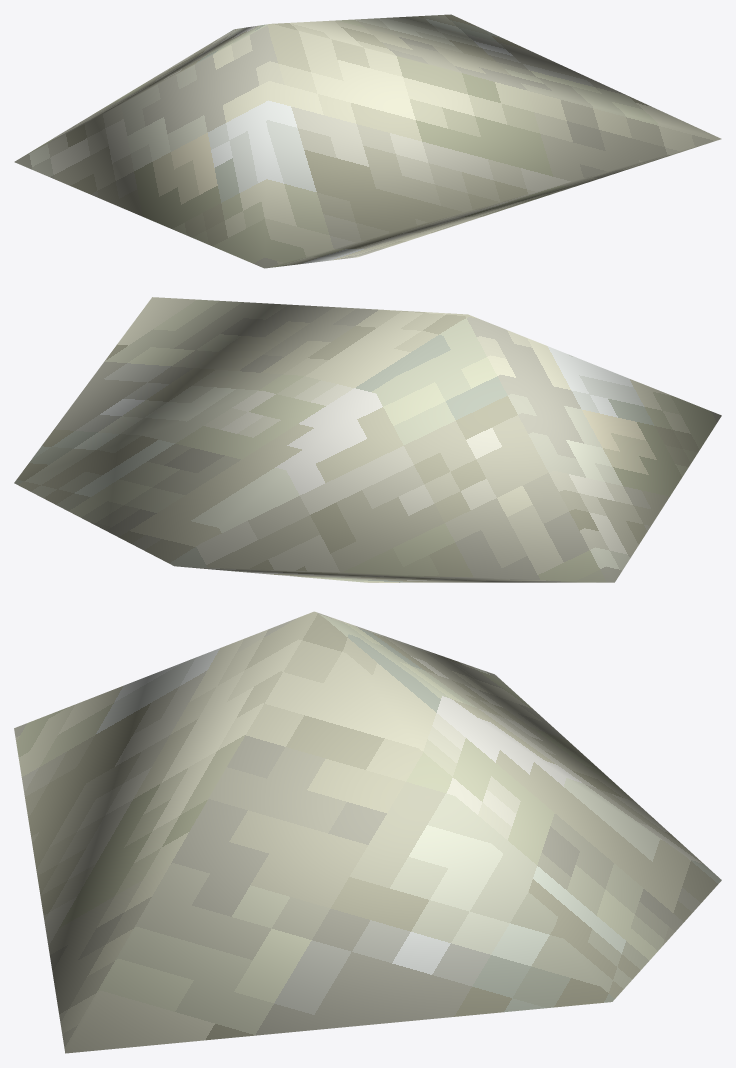
Rendered from lv9_r07_pillar_hahen.dae.
3 views of the same model, one above another, from view 1: azimuth 30°, elevation 25°; view 2: azimuth 150°, elevation 25°; view 3: azimuth 270°, elevation 25° (orthographic). The views are drawn at different scales.
Visible parts, largest first — view 1: Shape 0; view 2: Shape 0; view 3: Shape 0.
Part boxes in pixels (x1,y1,x2,y2): Shape 0: (14,14,721,268); Shape 0: (14,297,721,582); Shape 0: (14,611,721,1053).
Bounding box in the file's own units: 25.74 × 11.28 × 20.31.
Materials: 1 (1 with a texture image).
